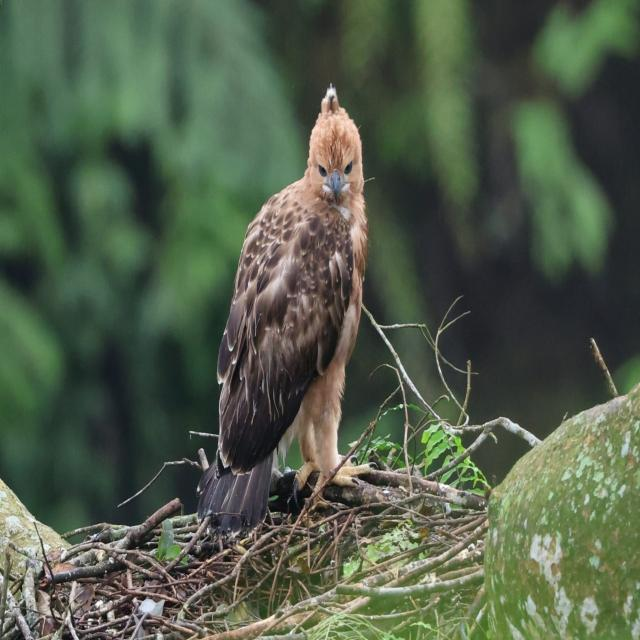Elang Jawa: (168, 59, 396, 552)
